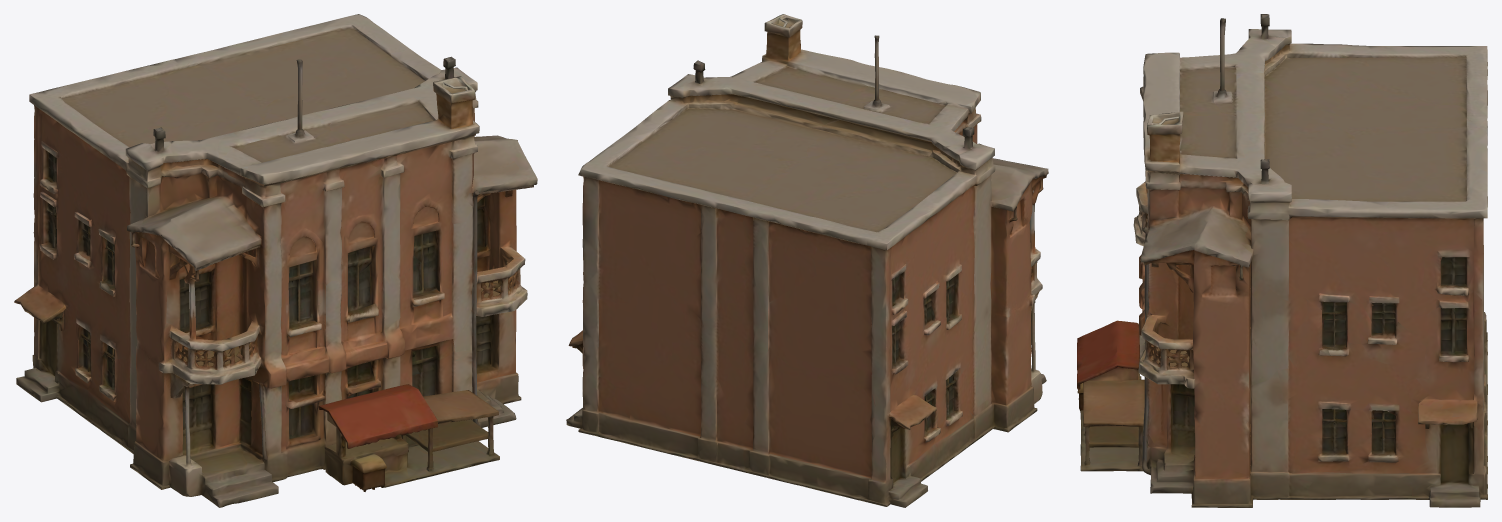
Rendered from tripo_convert_0a0a57db-7032-4956-844e-ad0509b06cfd.fbx.
The picture shows the model from 3 angles, left to right: view 1: azimuth 30°, elevation 25°; view 2: azimuth 150°, elevation 25°; view 3: azimuth 270°, elevation 25°; orthographic projection. The views are drawn at different scales.
Parts seen in each view (by area): view 1: tripo_node_0a0a57db; view 2: tripo_node_0a0a57db; view 3: tripo_node_0a0a57db.
Part boxes in pixels (left/top/right/bottom): tripo_node_0a0a57db: left=14, top=14, right=537, bottom=507; tripo_node_0a0a57db: left=566, top=14, right=1048, bottom=507; tripo_node_0a0a57db: left=1077, top=14, right=1487, bottom=507.
Bounding box in the file's own units: 1 × 0.9758 × 0.9376.
1 material, 1 textured.
